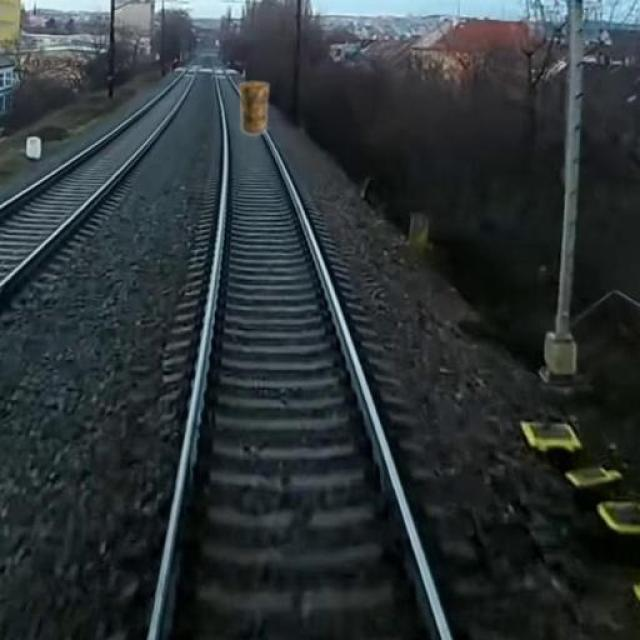Other_objects: (237, 77, 274, 150)
